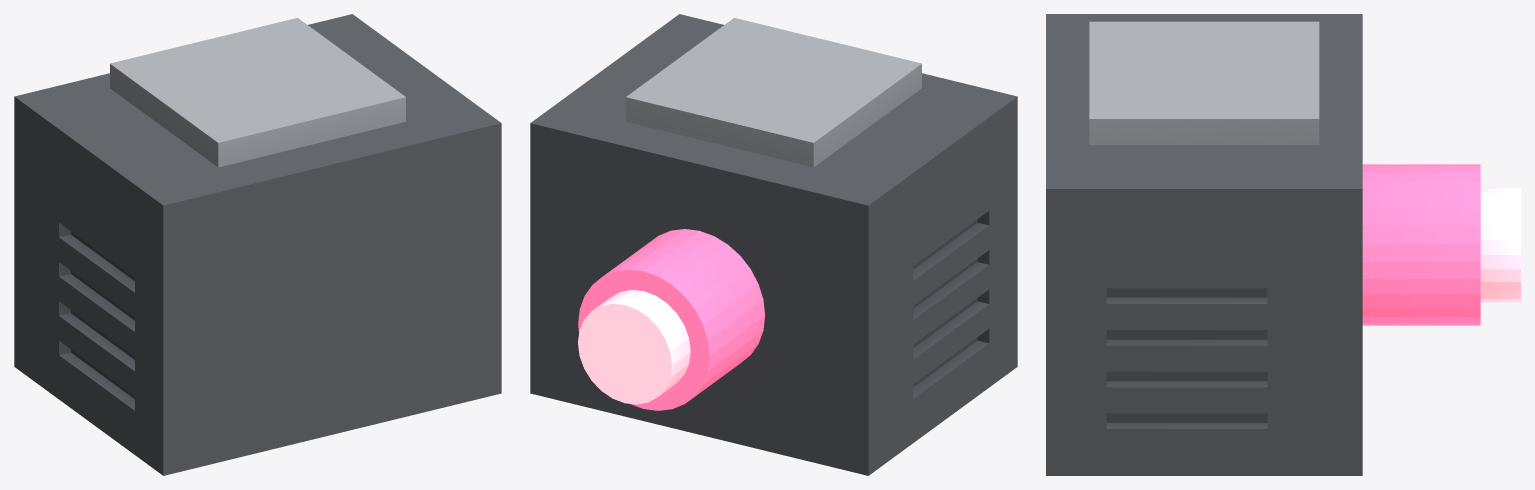
3 renders of one model, left to right at view 1: azimuth 30°, elevation 25°; view 2: azimuth 150°, elevation 25°; view 3: azimuth 270°, elevation 25°, orthographic. The views are drawn at different scales.
Parts seen in each view (by area): view 1: Part_Body, Part_Power; view 2: Part_Body, Part_Power, Part_Laser, Part_Lens; view 3: Part_Body, Part_Power, Part_Laser, Part_Lens.
Part boxes in pixels (bbox=[...]): Part_Body: bbox=[14, 14, 501, 475]; Part_Power: bbox=[110, 17, 405, 167]; Part_Body: bbox=[530, 14, 1017, 475]; Part_Power: bbox=[626, 17, 921, 167]; Part_Laser: bbox=[578, 229, 764, 410]; Part_Lens: bbox=[578, 290, 690, 404]; Part_Body: bbox=[1046, 14, 1362, 475]; Part_Power: bbox=[1089, 21, 1319, 144]; Part_Laser: bbox=[1362, 164, 1480, 325]; Part_Lens: bbox=[1480, 187, 1520, 302].
Bounding box in the file's own units: 0.72 × 0.61 × 0.825.
